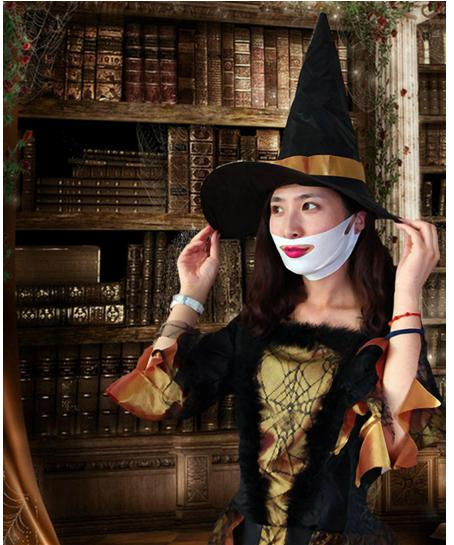WRONG: (267, 192, 346, 271)
